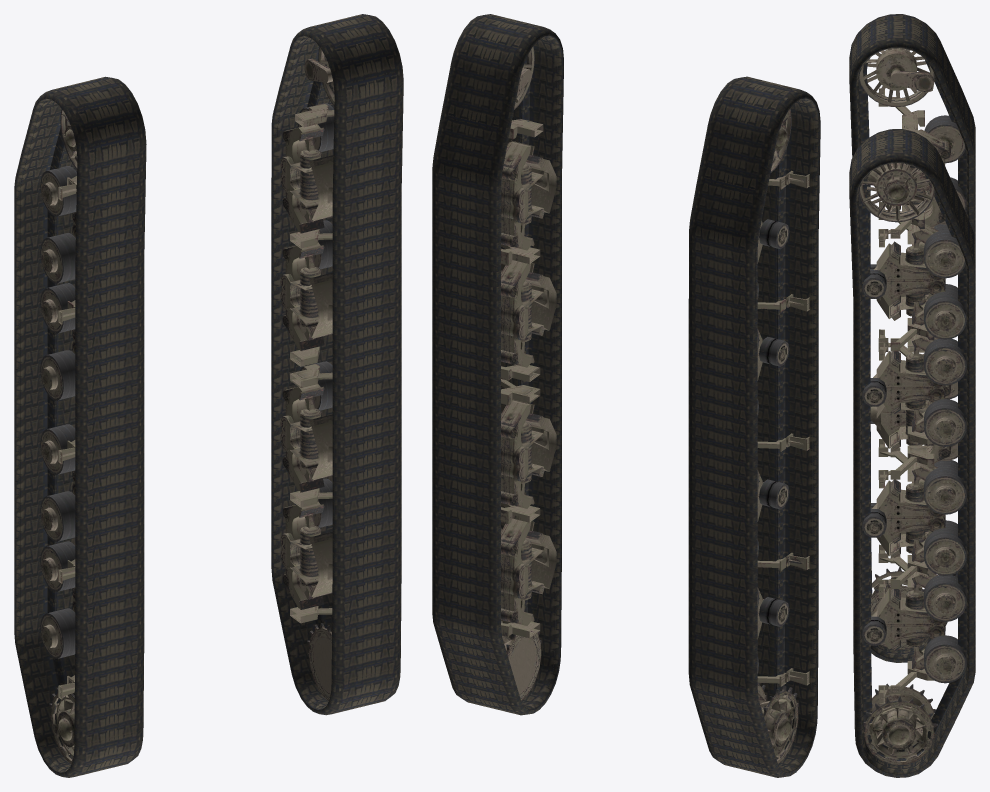
Rendered from Chassis.glb.
3 views of the same model, side by side, from view 1: azimuth 30°, elevation 25°; view 2: azimuth 150°, elevation 25°; view 3: azimuth 270°, elevation 25° (orthographic). The views are drawn at different scales.
Parts seen in each view (by area): view 1: set_0_group_0, set_1_group_0, set_3_group_0, set_2_group_0; view 2: set_0_group_0, set_1_group_0, set_3_group_0, set_2_group_0; view 3: set_3_group_0, set_1_group_0, set_2_group_0, set_0_group_0.
Part boxes in pixels (x1,y1,x2,y2): set_0_group_0: [14, 76, 146, 777]; set_1_group_0: [271, 14, 403, 715]; set_3_group_0: [280, 47, 334, 700]; set_2_group_0: [40, 109, 77, 763]; set_0_group_0: [688, 76, 820, 777]; set_1_group_0: [432, 14, 563, 715]; set_3_group_0: [501, 46, 556, 700]; set_2_group_0: [757, 108, 809, 763]; set_3_group_0: [859, 163, 966, 764]; set_1_group_0: [849, 129, 975, 777]; set_2_group_0: [859, 48, 966, 649]; set_0_group_0: [849, 14, 975, 662].
Size of the model in its own units: 3.91 by 7.69 by 1.41.
Materials: 4 (4 with a texture image).
